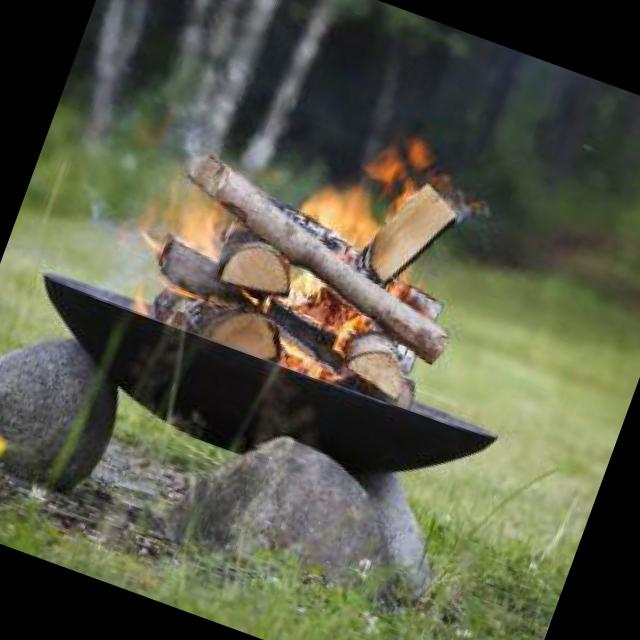fire: (142, 65, 470, 379)
